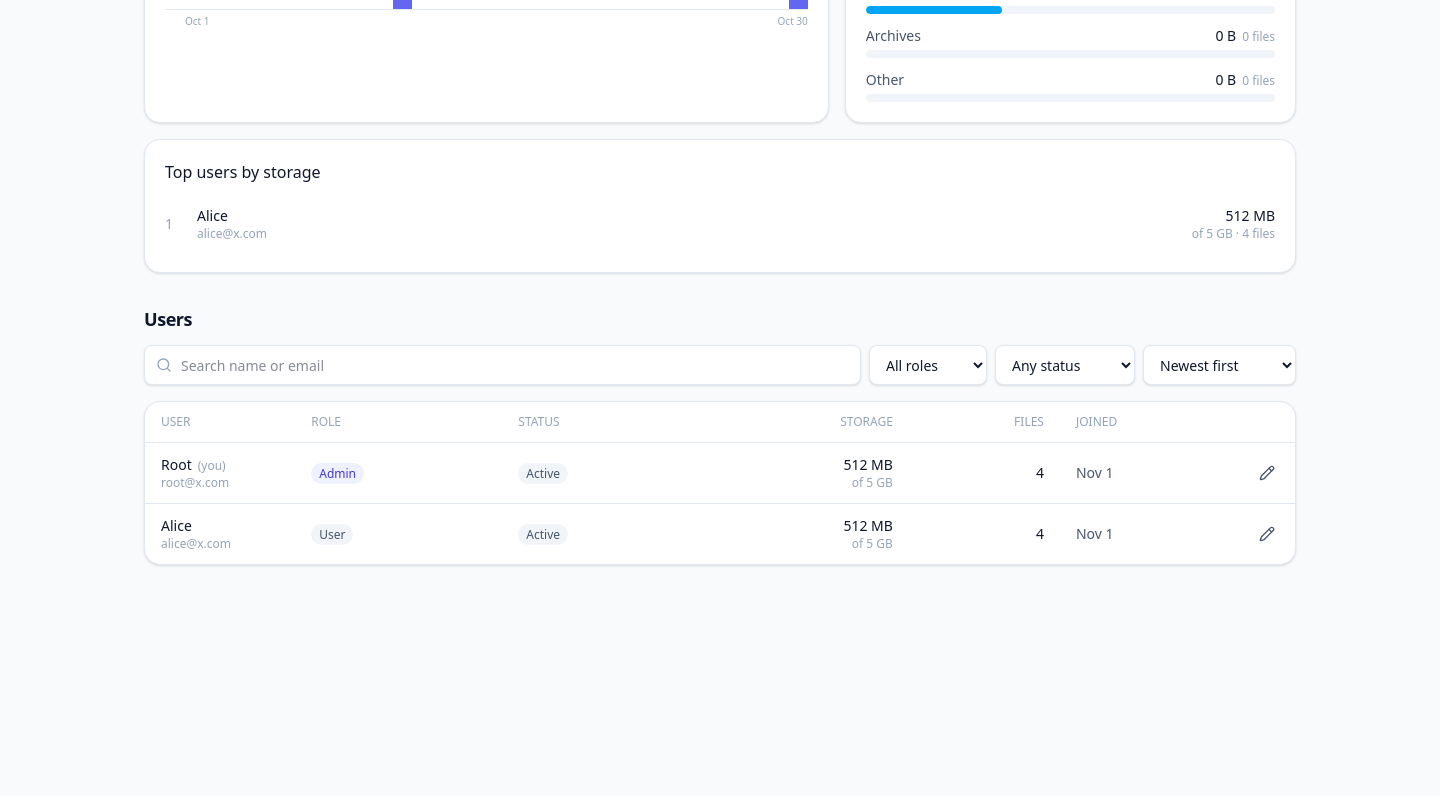
it: editing a user › sends nothing when nothing changed
(page scrolled)
Click the button named "Edit Alice" at x=1267, y=534, box [1247,518,1287,550]
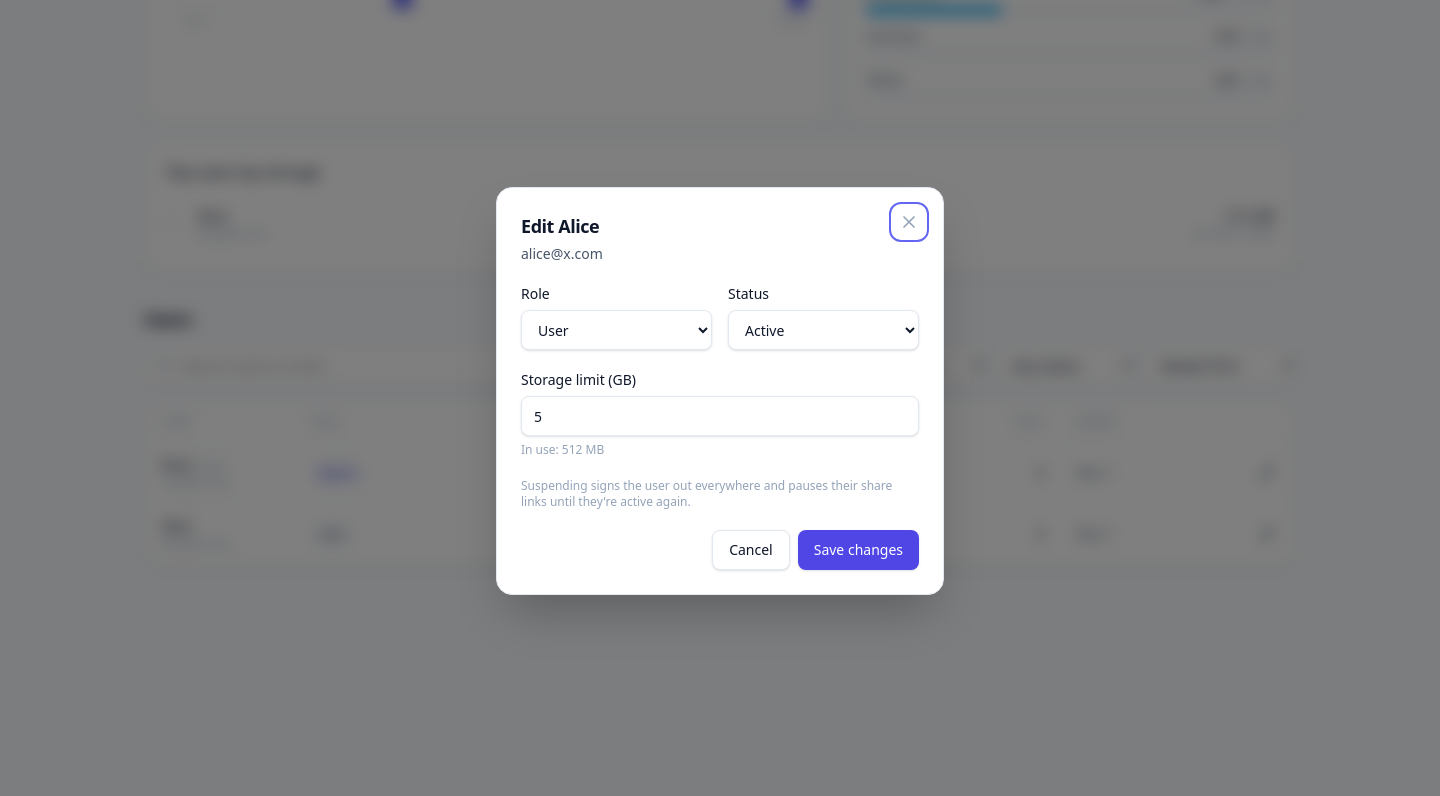
Click the button "Save changes" at x=858, y=550, box [798,530,919,570]
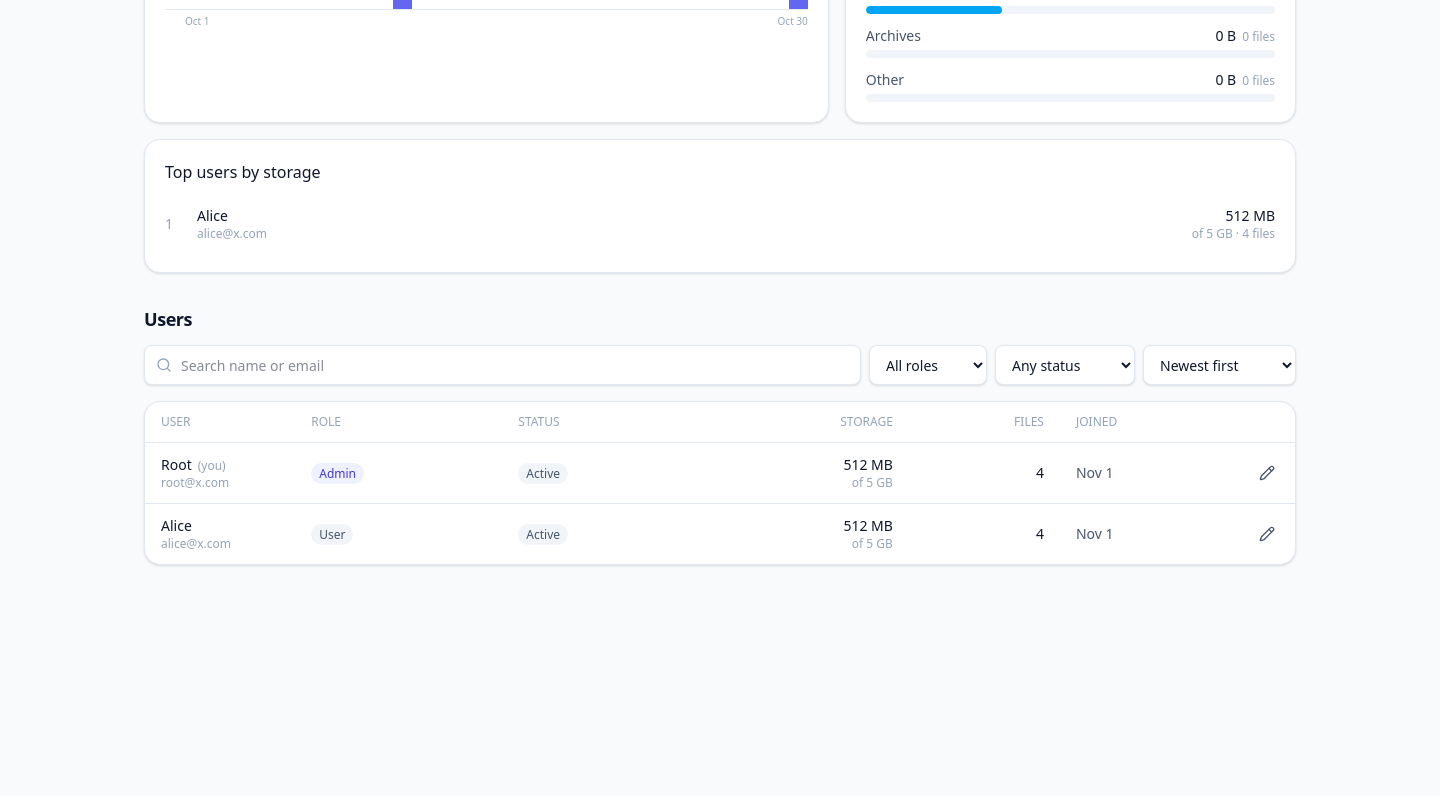
Check: the heading "Edit Alice" is gone
